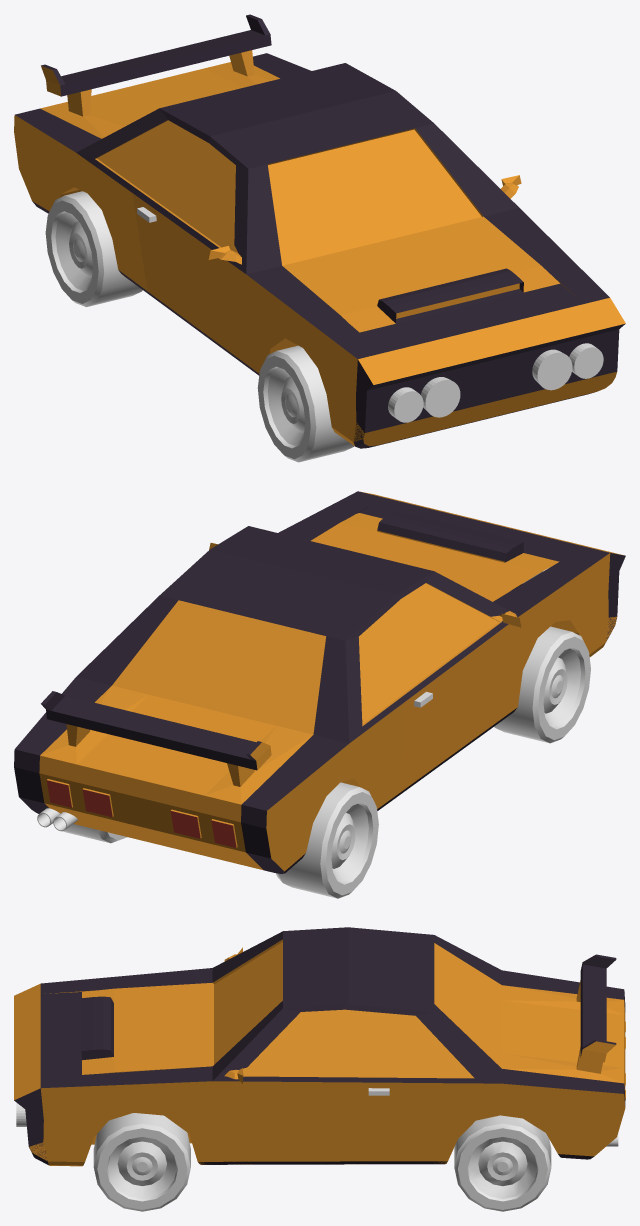
File: circuito.fbx
3 views of the same model, one above another, from view 1: azimuth 30°, elevation 25°; view 2: azimuth 150°, elevation 25°; view 3: azimuth 270°, elevation 25° (orthographic). The views are drawn at different scales.
Visible parts, largest first — view 1: Chasis, Right_front_wheel, Right_back_wheel, FaroL.001, FaroR2, FaroR, FaroL; view 2: Chasis, Right_back_wheel, Right_front_wheel, Left_back_wheel; view 3: Chasis, Left_front_wheel, Left_back_wheel.
Part boxes in pixels (x1=…): Chasis: x1=14, y1=14, x2=625, y2=448; Right_front_wheel: x1=257, y1=345, x2=354, y2=462; Right_back_wheel: x1=45, y1=191, x2=142, y2=307; FaroL.001: x1=532, y1=349, x2=572, y2=390; FaroR2: x1=420, y1=377, x2=460, y2=417; FaroR: x1=388, y1=387, x2=423, y2=422; FaroL: x1=569, y1=343, x2=603, y2=378; Chasis: x1=14, y1=491, x2=625, y2=873; Right_back_wheel: x1=275, y1=782, x2=378, y2=898; Right_front_wheel: x1=494, y1=626, x2=590, y2=743; Left_back_wheel: x1=63, y1=824, x2=127, y2=843; Chasis: x1=14, y1=927, x2=625, y2=1166; Left_front_wheel: x1=93, y1=1113, x2=190, y2=1211; Left_back_wheel: x1=454, y1=1115, x2=551, y2=1211.
Size of what is drawn, in the model's own units: 192 by 131 by 383.
